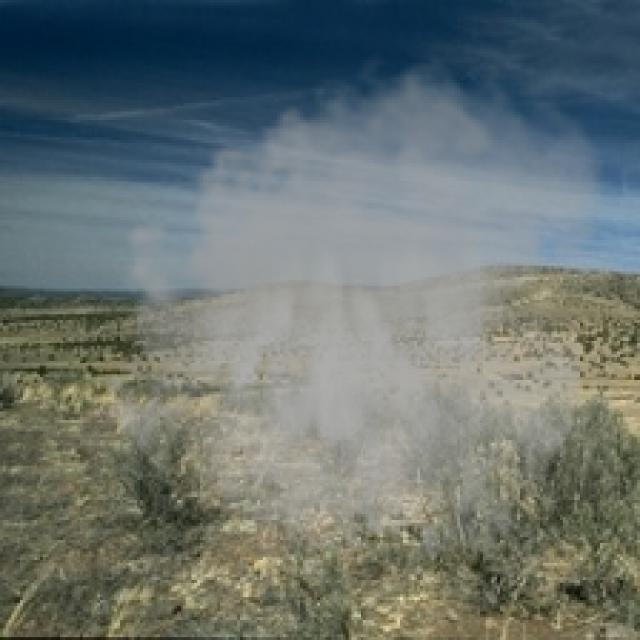smoke: (89, 43, 617, 603)
